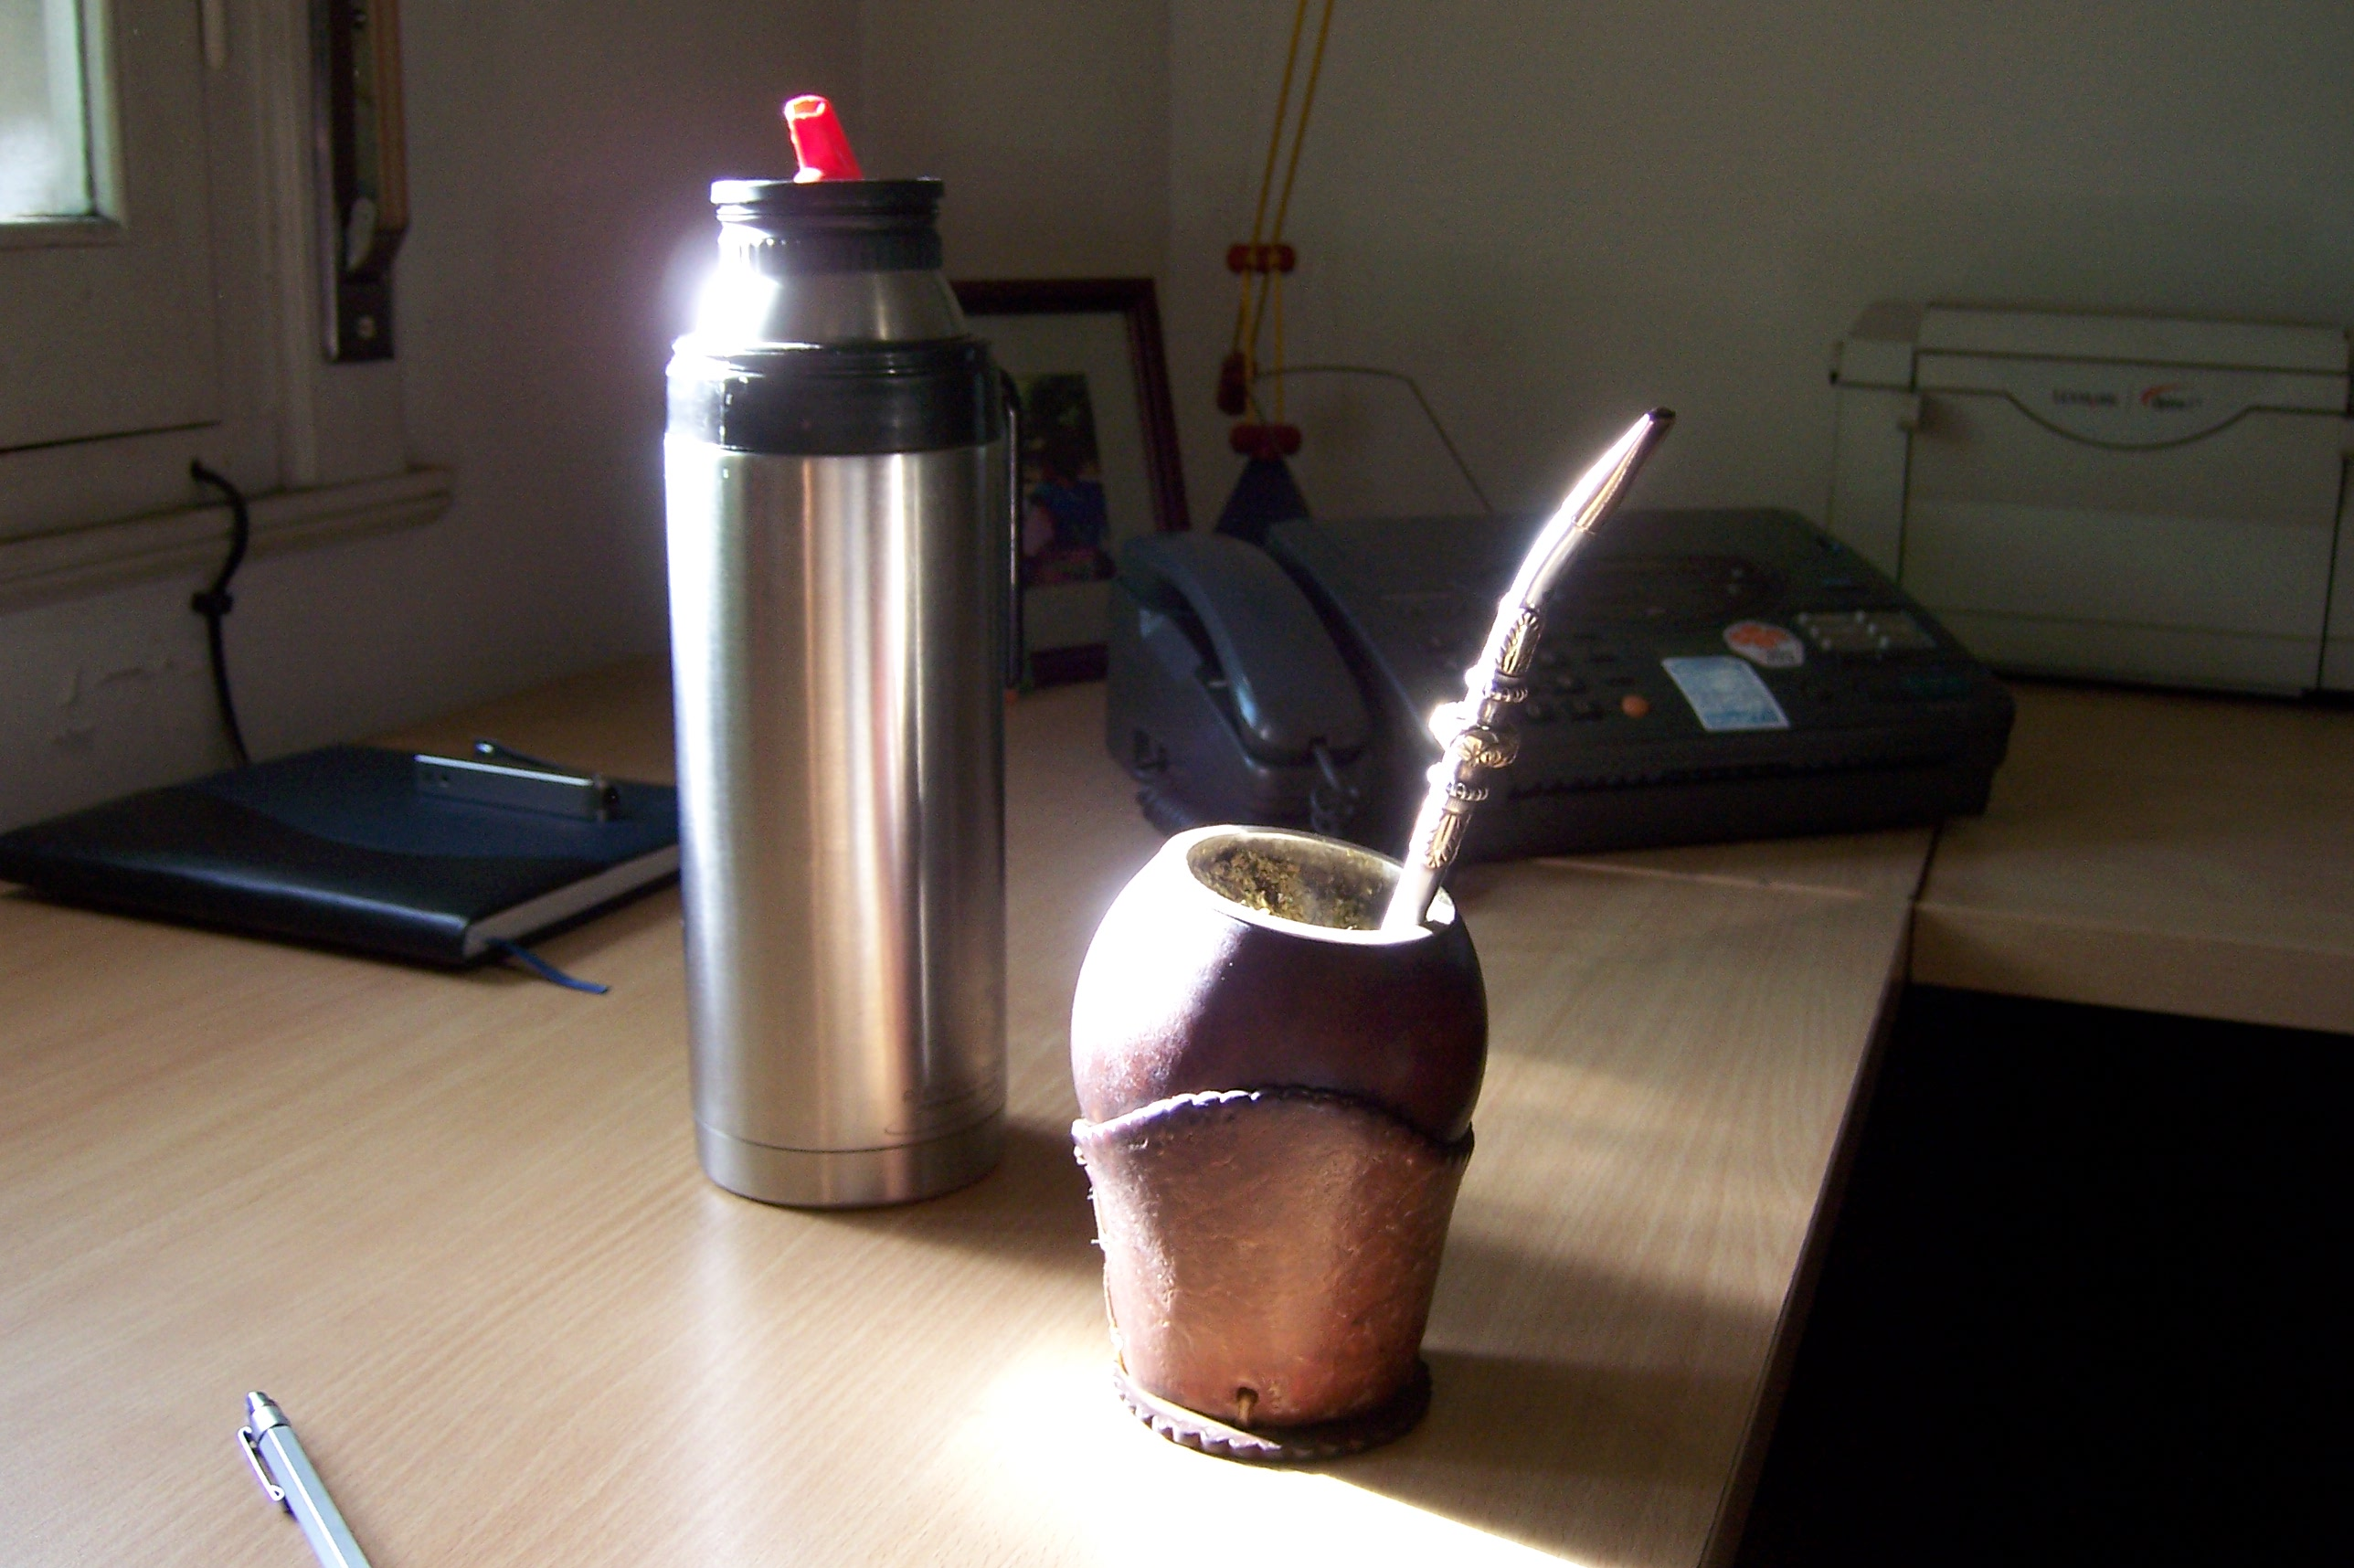mate: (1071, 822, 1488, 1479)
